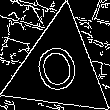O_SE: (31, 36, 86, 101)
